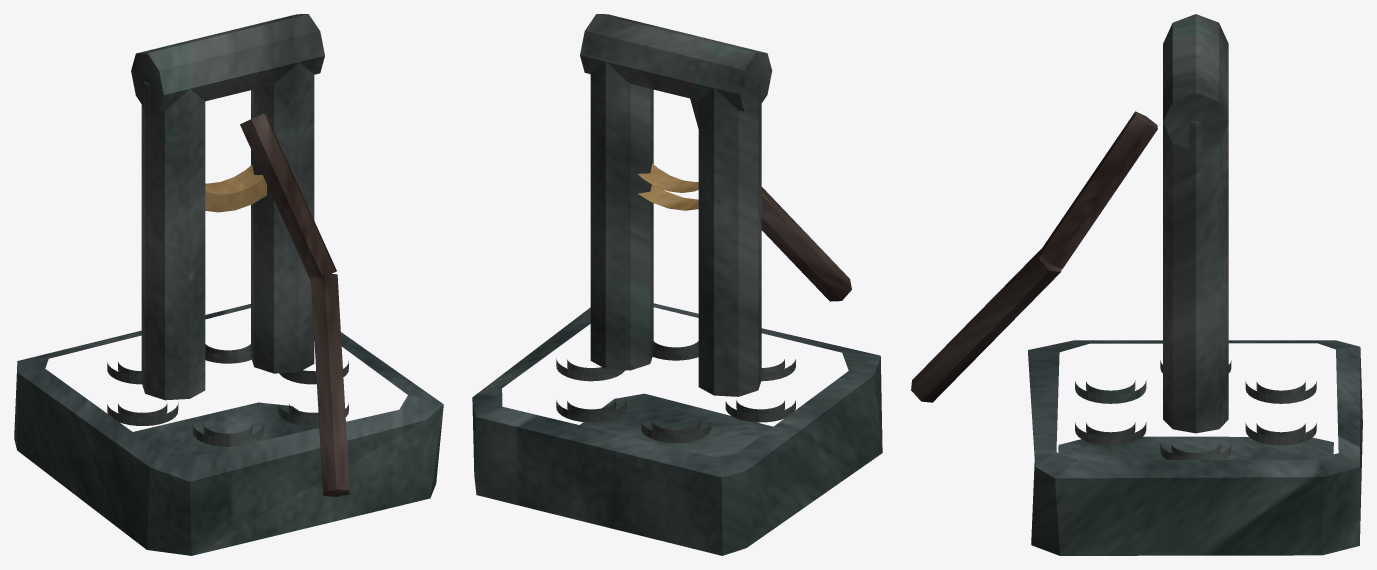
Rendered from 0688_rope_anchor_13.glb.
The picture shows the model from 3 angles, left to right: view 1: azimuth 30°, elevation 25°; view 2: azimuth 150°, elevation 25°; view 3: azimuth 270°, elevation 25°; orthographic projection.
Parts seen in each view (by area): view 1: iron, stone_dark, wood_dark, brass; view 2: iron, stone_dark, wood_dark, brass; view 3: stone_dark, iron, wood_dark.
Boxes of the visible parts, box(x1,y1,x2,y2) form: iron: box(107, 14, 348, 446); stone_dark: box(14, 304, 443, 555); wood_dark: box(240, 113, 349, 496); brass: box(205, 165, 266, 212); iron: box(556, 14, 795, 442); stone_dark: box(472, 303, 882, 555); wood_dark: box(690, 98, 851, 301); brass: box(638, 163, 698, 210); stone_dark: box(1027, 340, 1362, 555); iron: box(1075, 14, 1316, 459); wood_dark: box(911, 111, 1157, 402).
Bounding box in the file's own units: 1.22 × 1.78 × 1.65.
Materials: 4 (4 with a texture image).
